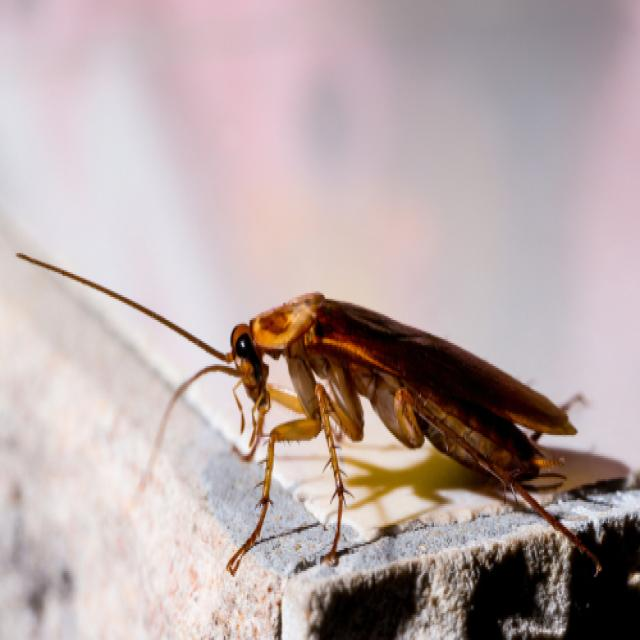Cockroach: (104, 262, 614, 577)
